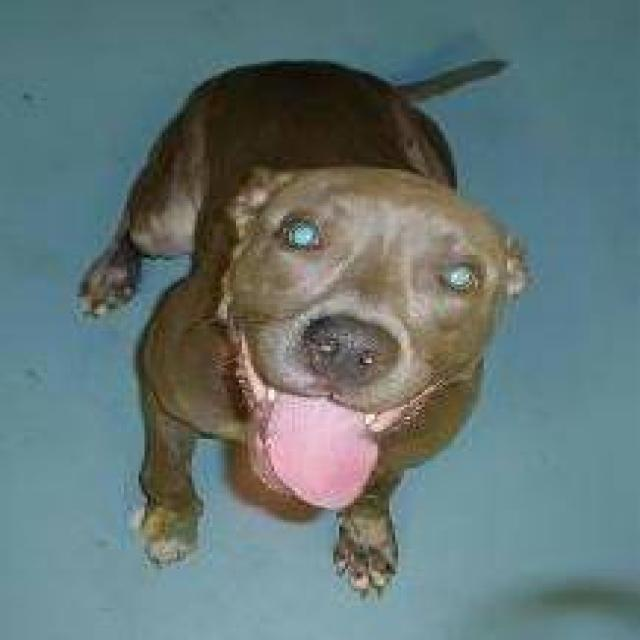dog: (74, 54, 531, 598)
